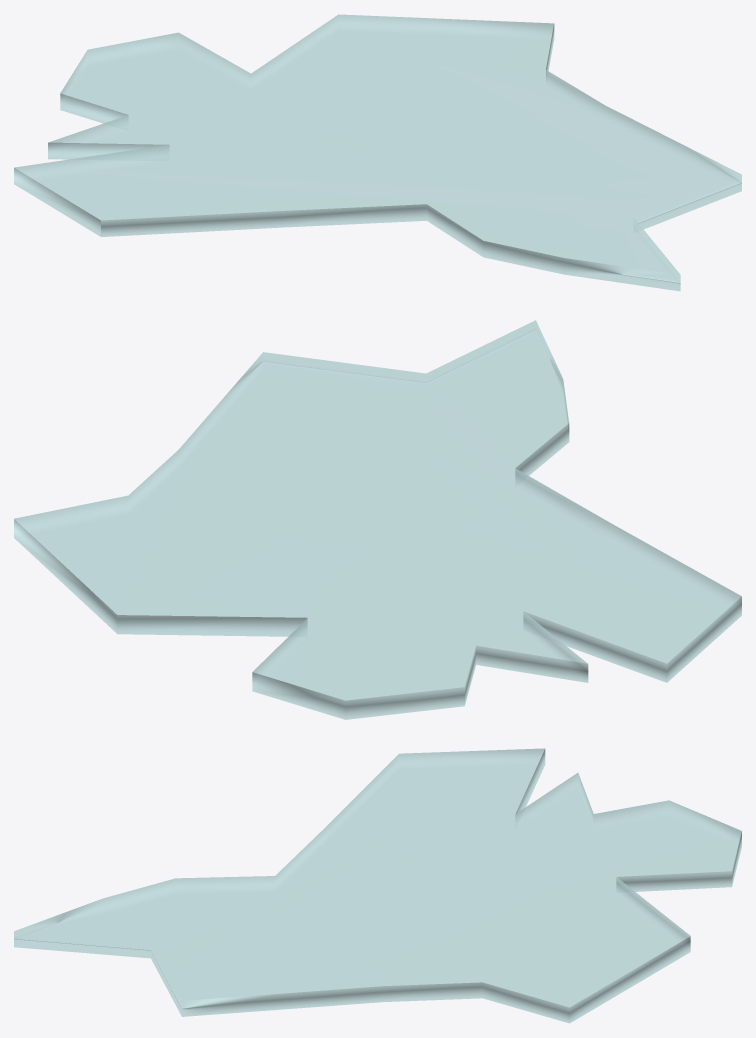
File: VidrioRoto1.fbx
3 views of the same model, one above another, from view 1: azimuth 30°, elevation 25°; view 2: azimuth 150°, elevation 25°; view 3: azimuth 270°, elevation 25° (orthographic). The views are drawn at different scales.
Visible parts, largest first — view 1: Cube.083; view 2: Cube.083; view 3: Cube.083.
Part boxes in pixels (x1,y1,x2,y2): Cube.083: (14, 14, 741, 291); Cube.083: (14, 320, 741, 719); Cube.083: (14, 748, 741, 1023).
Size of the model in its own units: 190 by 5.48 by 226.
